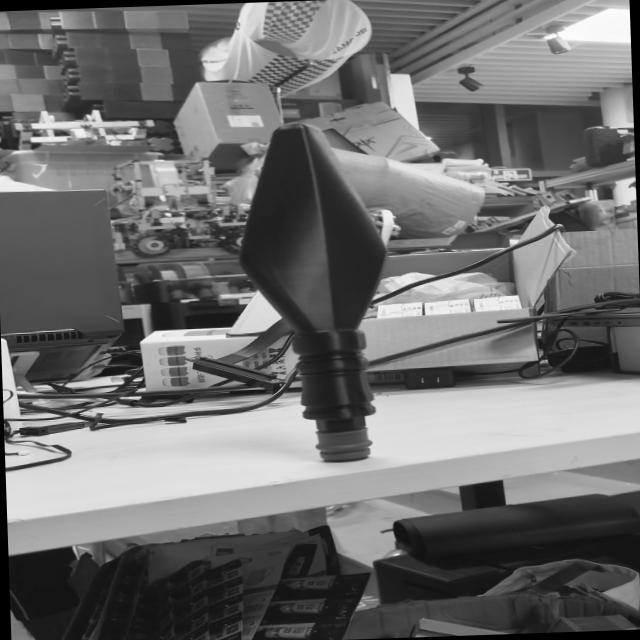base: (304, 422, 387, 471)
